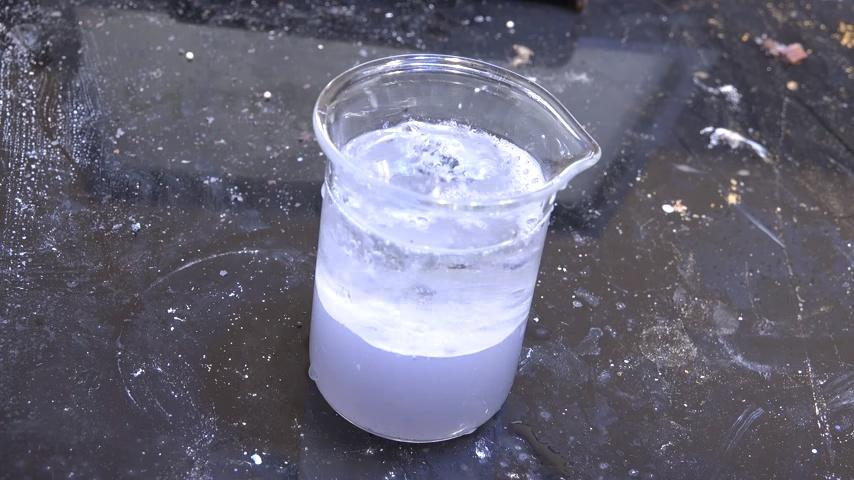Beaker: (287, 44, 632, 444)
